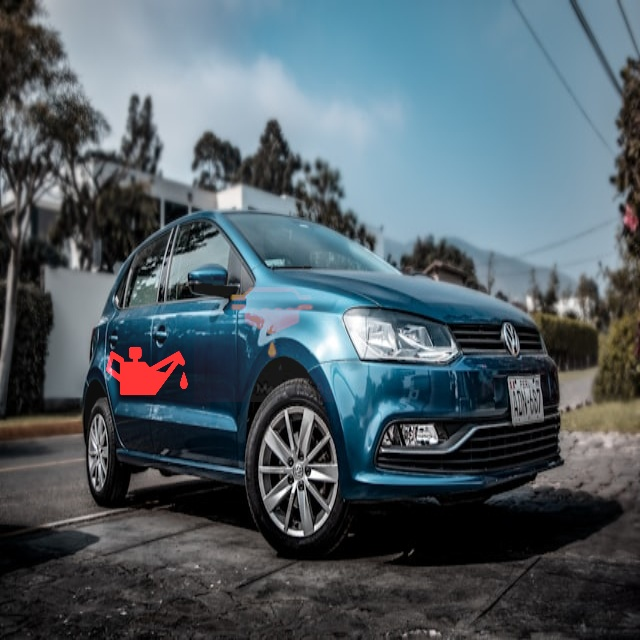symbol: (194, 244, 352, 402), (85, 304, 210, 429)
